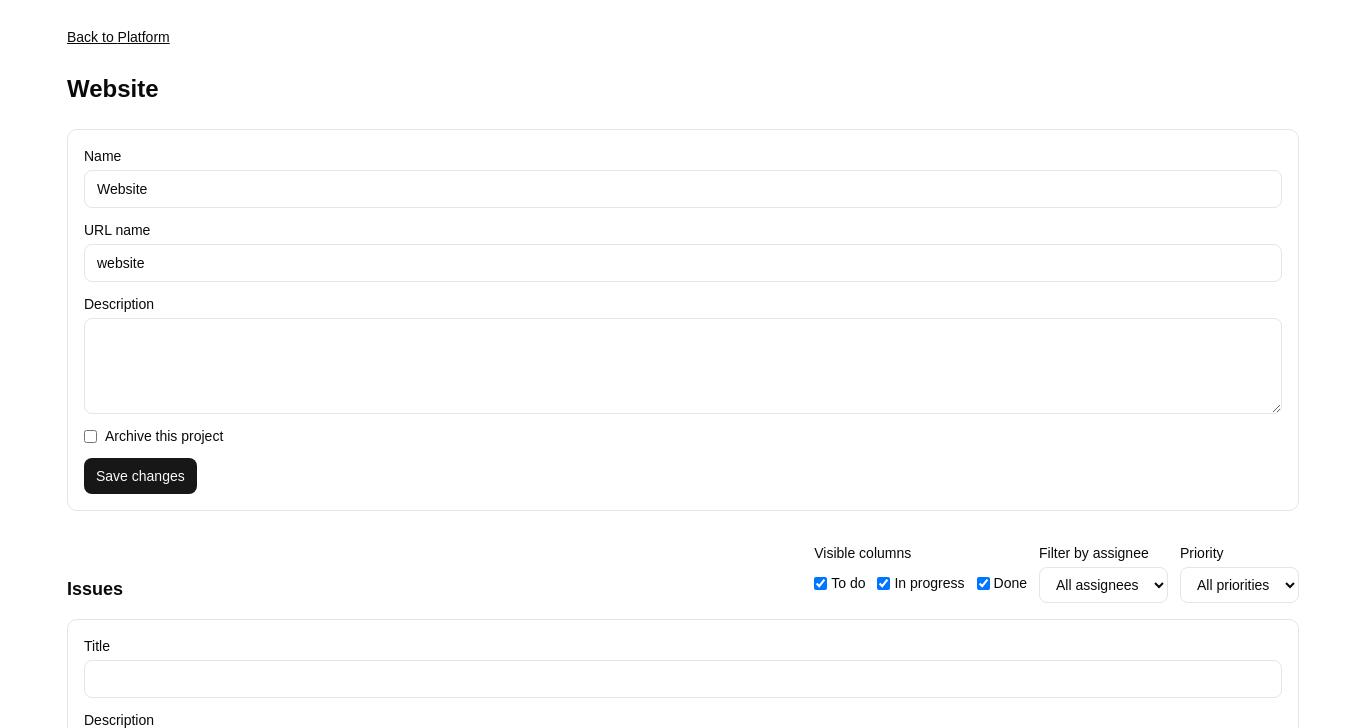
Test: ProjectPage › adds a quick-created issue to the To do column
This screenshot has width=1366, height=728.
Type "Plan the launch" into the field labelled "Title" at (683, 679), box [84,660,1282,698]
(page scrolled)
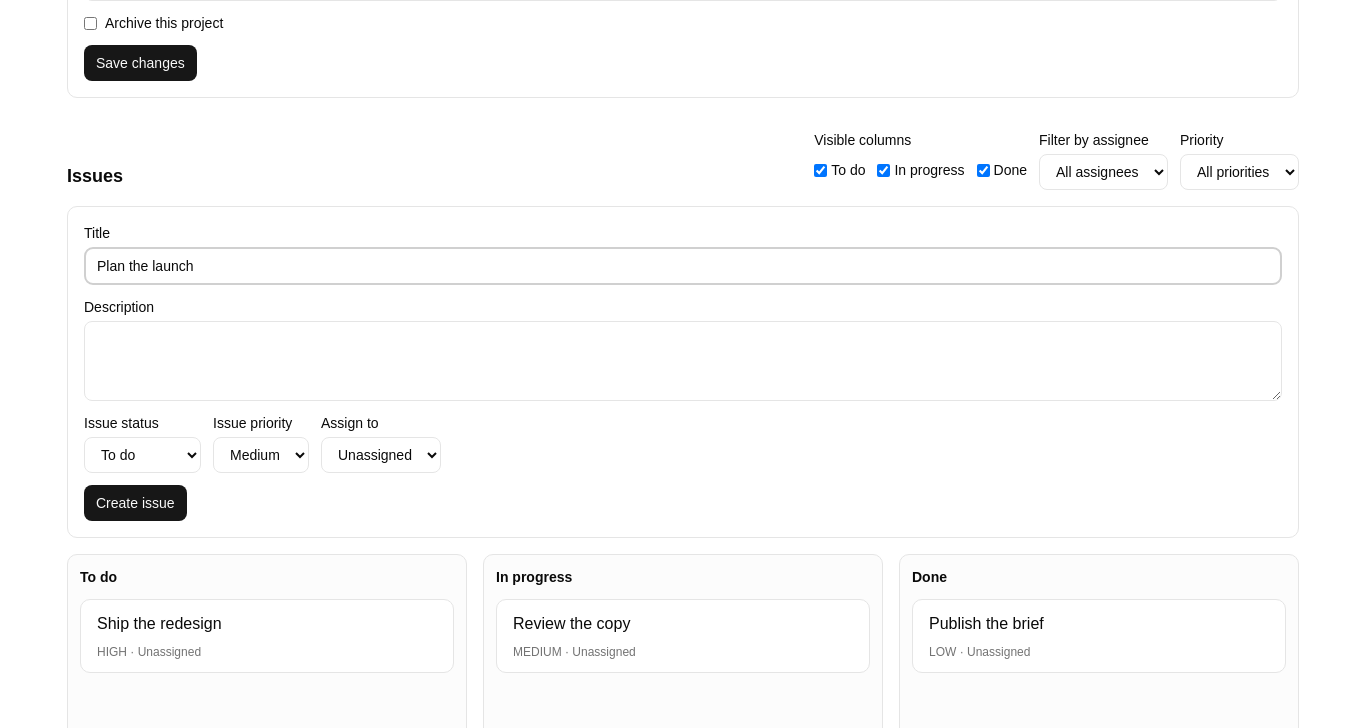
Type "Coordinate the team" into the text box labelled "Description" below "Title" at (683, 361), box [84,321,1282,401]
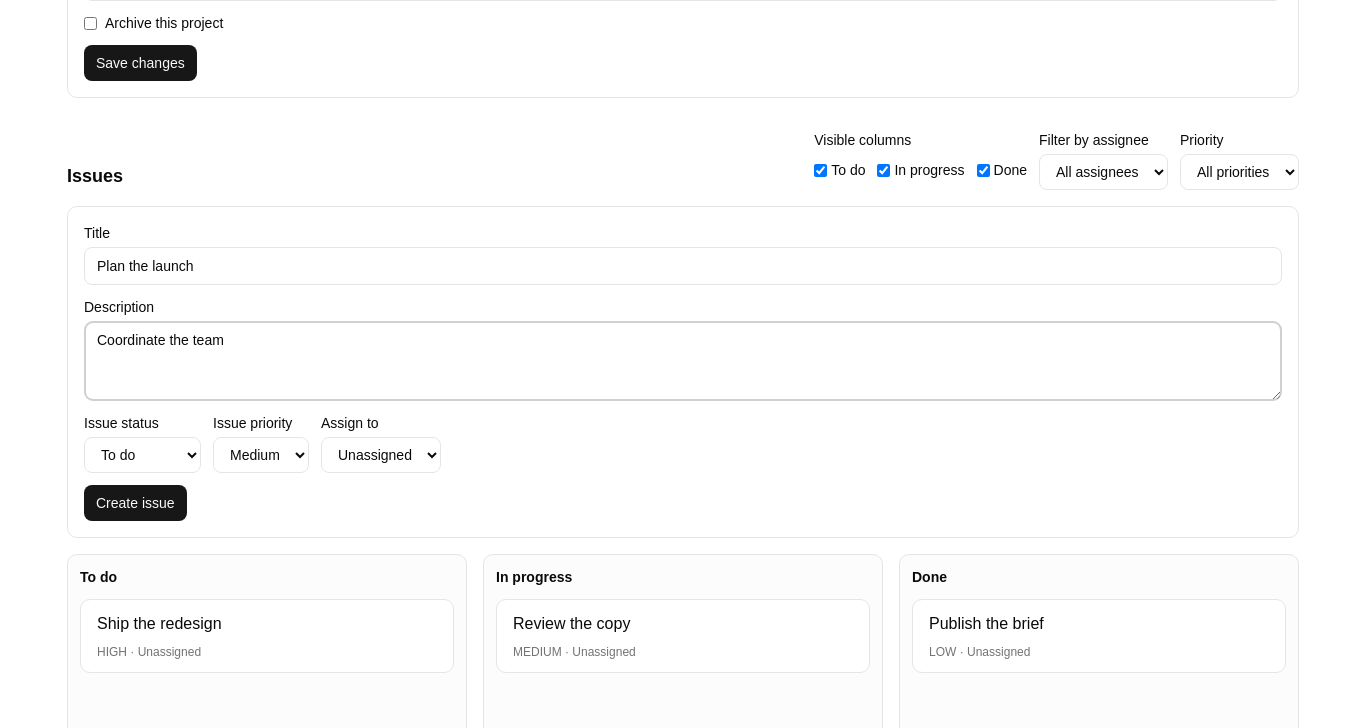
Select "Low" in the dropdown labelled "Issue priority" at (261, 455), box [213,437,309,473]
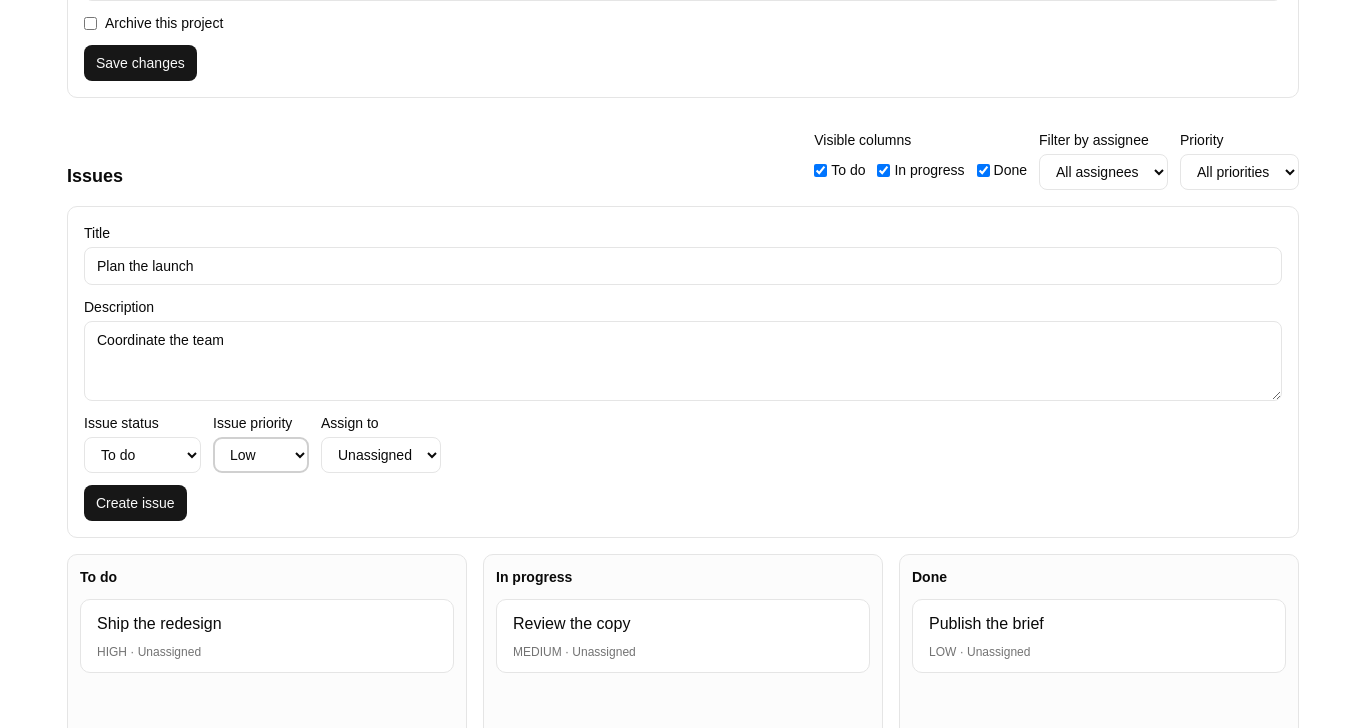
Click the button "Create issue" at (135, 503), box [84,485,187,521]
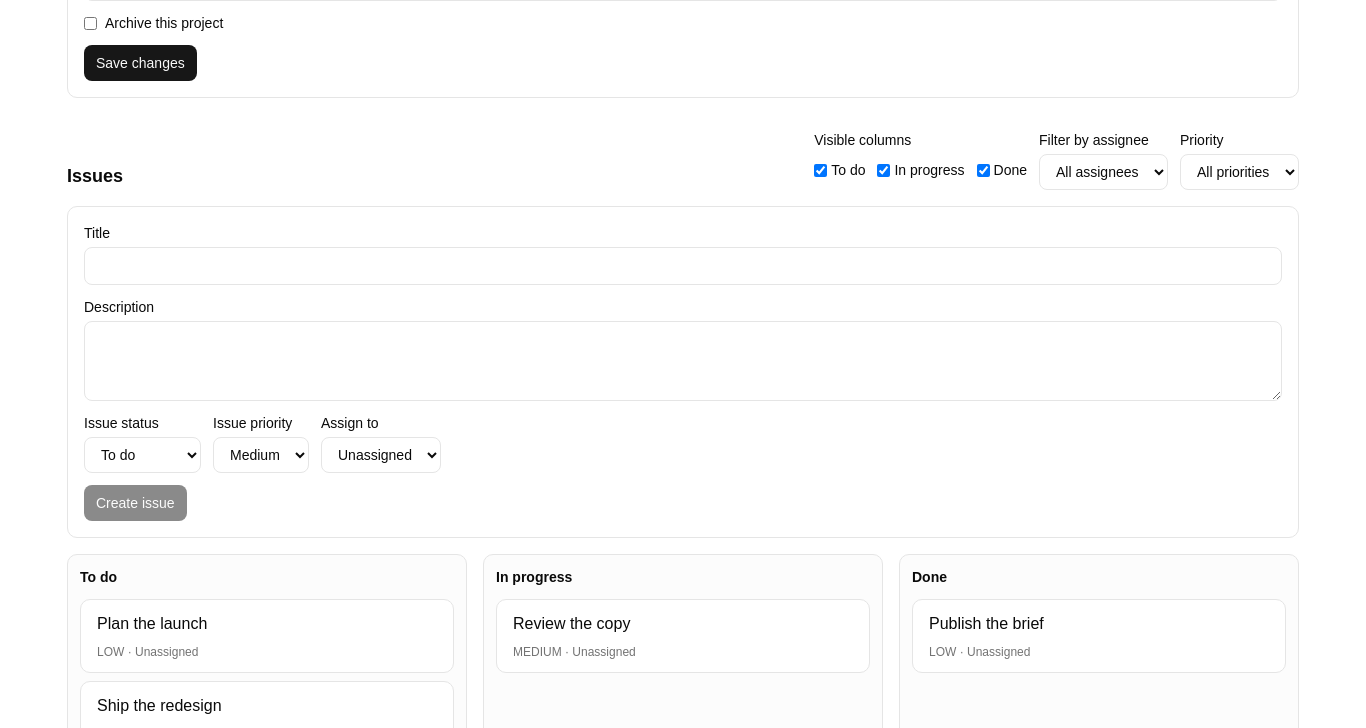
expect the text "Plan the launch" is shown: met, box [97,615,207,632]
